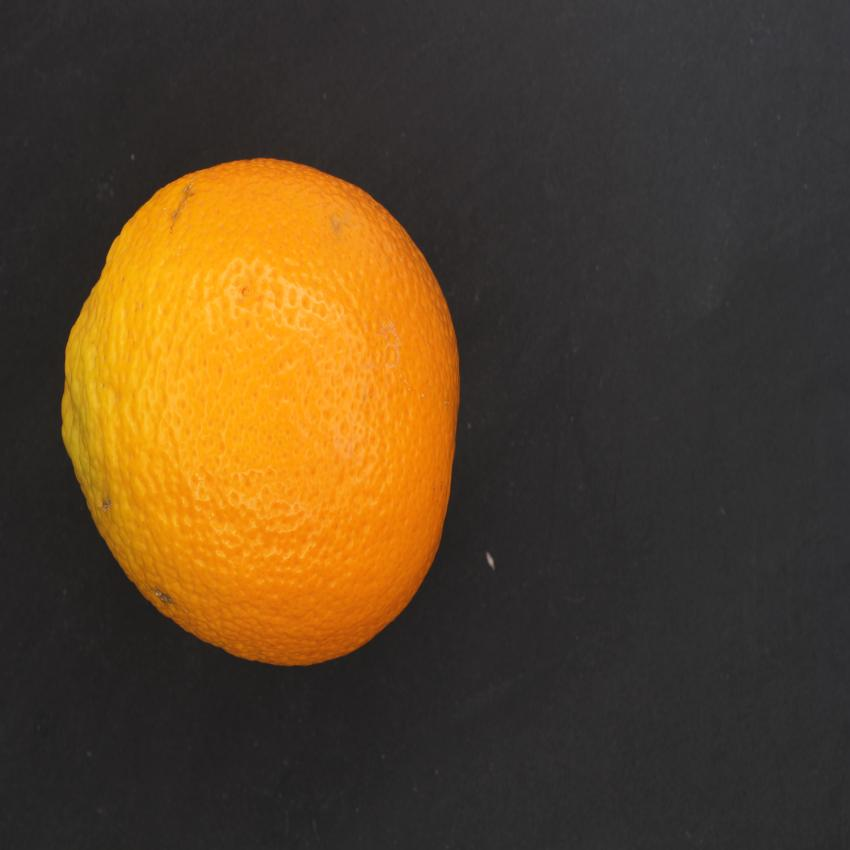Buen estado: (55, 132, 475, 681)
